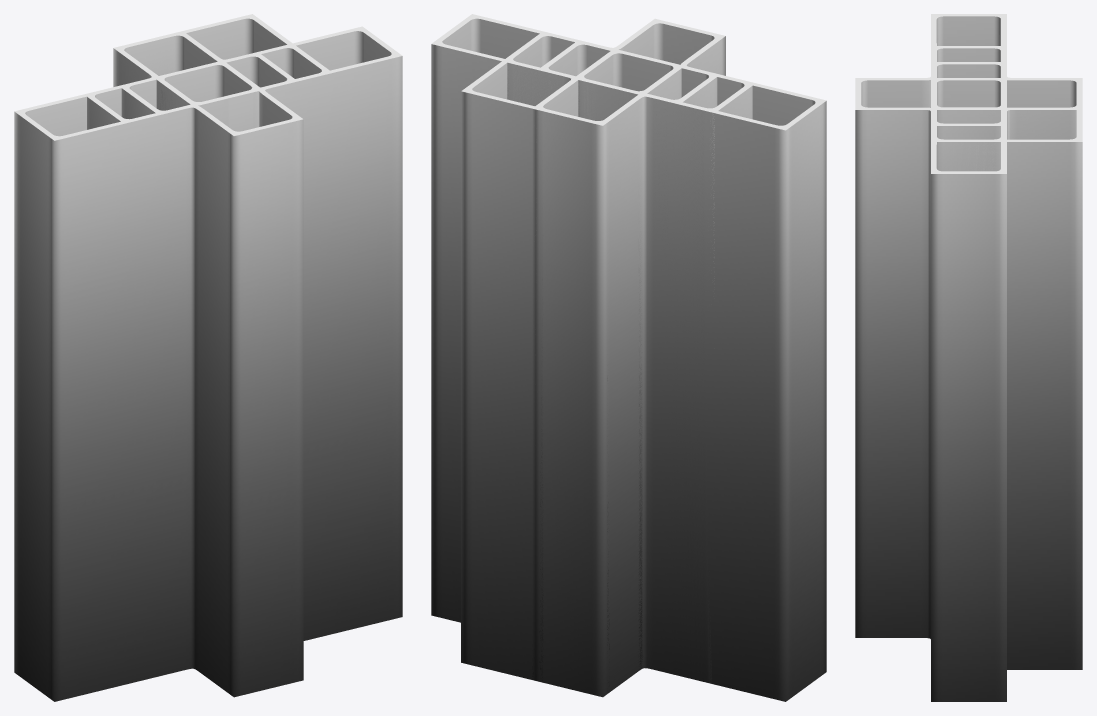
Rendered from NewHoles.fbx.
3 views of the same model, side by side, from view 1: azimuth 30°, elevation 25°; view 2: azimuth 150°, elevation 25°; view 3: azimuth 270°, elevation 25° (orthographic). The views are drawn at different scales.
Visible parts, largest first — view 1: Hole-Block-L-R, Hole-Block-Cross, Hole-Block-L, Hole-Blok-3, Hole-Block-Square, Hole-Block-R, Hole-Block-2, Hole-Block-R-R, Hole-Block-T, Hole-Block-Single; view 2: Hole-Block-L-R, Hole-Block-Square, Hole-Block-L, Hole-Block-Cross, Hole-Block-R, Hole-Block-R-R, Hole-Blok-3, Hole-Block-2, Hole-Block-T, Hole-Block-Single; view 3: Hole-Block-Cross, Hole-Block-L, Hole-Block-Square, Hole-Block-R-R, Hole-Block-L-R, Hole-Block-2, Hole-Block-T, Hole-Blok-3, Hole-Block-Single.
Part boxes in pixels (x1,y1,x2,y2): Hole-Block-L-R: (14, 34, 259, 701); Hole-Block-Cross: (85, 33, 332, 697); Hole-Block-L: (113, 26, 402, 640); Hole-Blok-3: (87, 48, 326, 128); Hole-Block-Square: (115, 14, 324, 105); Hole-Block-R: (89, 35, 255, 128); Hole-Block-2: (121, 54, 294, 119); Hole-Block-R-R: (116, 35, 323, 104); Hole-Block-T: (90, 36, 326, 121); Hole-Block-Single: (157, 63, 254, 110); Hole-Block-L-R: (540, 51, 826, 701); Hole-Block-Square: (461, 35, 676, 697); Hole-Block-L: (431, 14, 681, 693); Hole-Block-Cross: (502, 18, 755, 693); Hole-Block-R: (539, 52, 749, 693); Hole-Block-R-R: (510, 35, 678, 694); Hole-Blok-3: (511, 34, 752, 280); Hole-Block-2: (541, 42, 717, 250); Hole-Block-T: (508, 33, 748, 685); Hole-Block-Single: (578, 58, 681, 120); Hole-Block-Cross: (855, 46, 1082, 638); Hole-Block-L: (931, 78, 1082, 701); Hole-Block-Square: (931, 78, 1082, 669); Hole-Block-R-R: (931, 78, 1081, 171); Hole-Block-L-R: (931, 14, 1082, 139); Hole-Block-2: (931, 62, 1006, 139); Hole-Block-T: (932, 46, 1066, 171); Hole-Blok-3: (931, 46, 1006, 171); Hole-Block-Single: (931, 78, 1006, 117).
Size of the model in its own units: 5 by 7.7 by 3.
